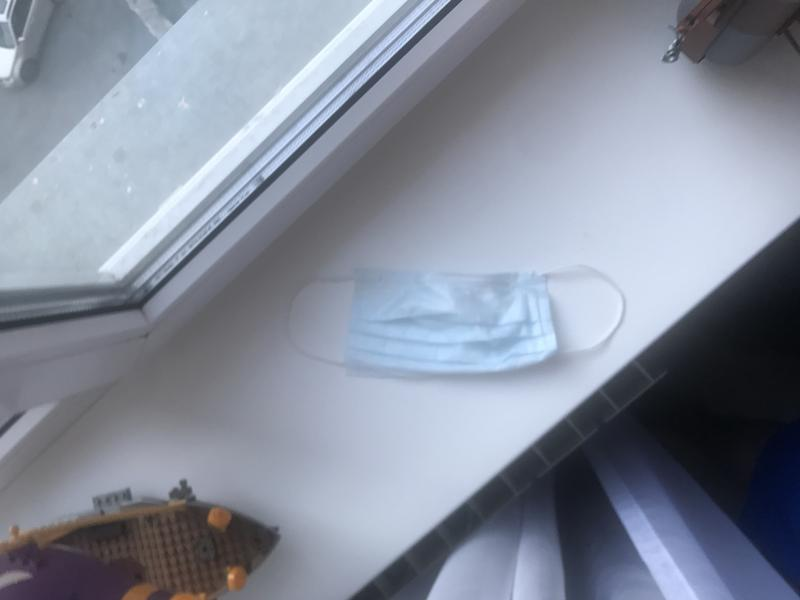medical_mask: (347, 258, 625, 368)
